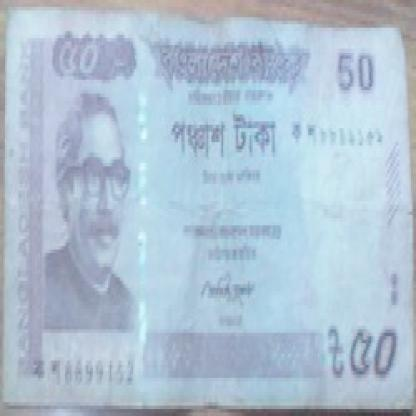Fifty taka: (344, 309, 404, 398), (58, 35, 105, 86)
